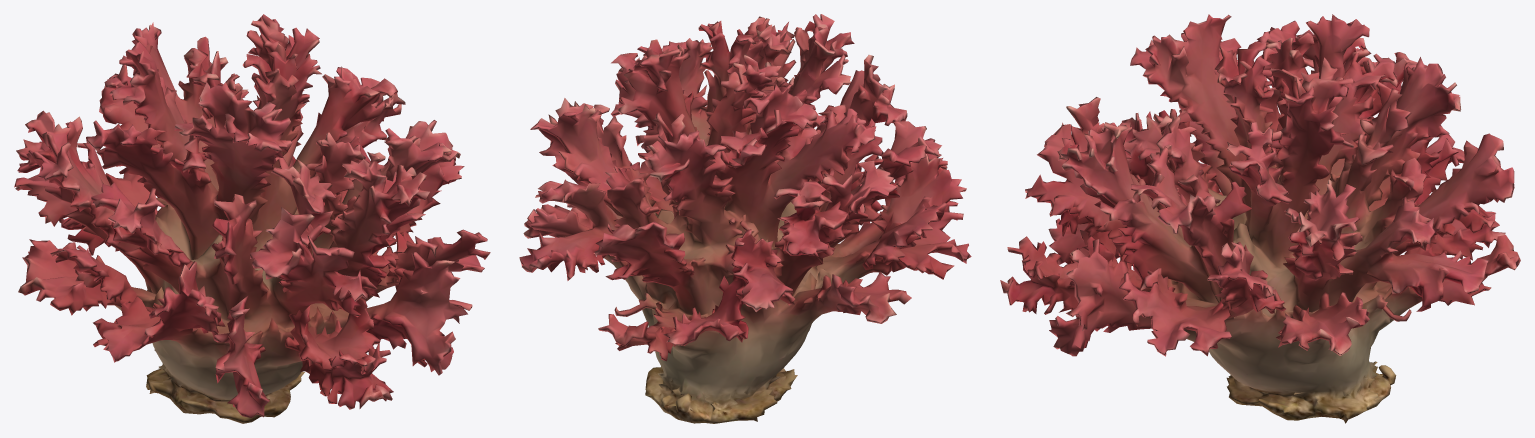
File: coral_fan.glb
3 renders of one model, left to right at view 1: azimuth 30°, elevation 25°; view 2: azimuth 150°, elevation 25°; view 3: azimuth 270°, elevation 25°, orthographic. The views are drawn at different scales.
Visible parts, largest first — view 1: tripo_node_42ed92a1-a7f6-4fef-917b-6ed5d6b25da3; view 2: tripo_node_42ed92a1-a7f6-4fef-917b-6ed5d6b25da3; view 3: tripo_node_42ed92a1-a7f6-4fef-917b-6ed5d6b25da3.
Boxes of the visible parts, x1,y1,x2,y2 form: tripo_node_42ed92a1-a7f6-4fef-917b-6ed5d6b25da3: (14,14,490,423); tripo_node_42ed92a1-a7f6-4fef-917b-6ed5d6b25da3: (519,14,971,423); tripo_node_42ed92a1-a7f6-4fef-917b-6ed5d6b25da3: (1000,14,1520,423).
Bounding box in the file's own units: 0.8847 × 0.7665 × 1.
Materials: 1 (1 with a texture image).
